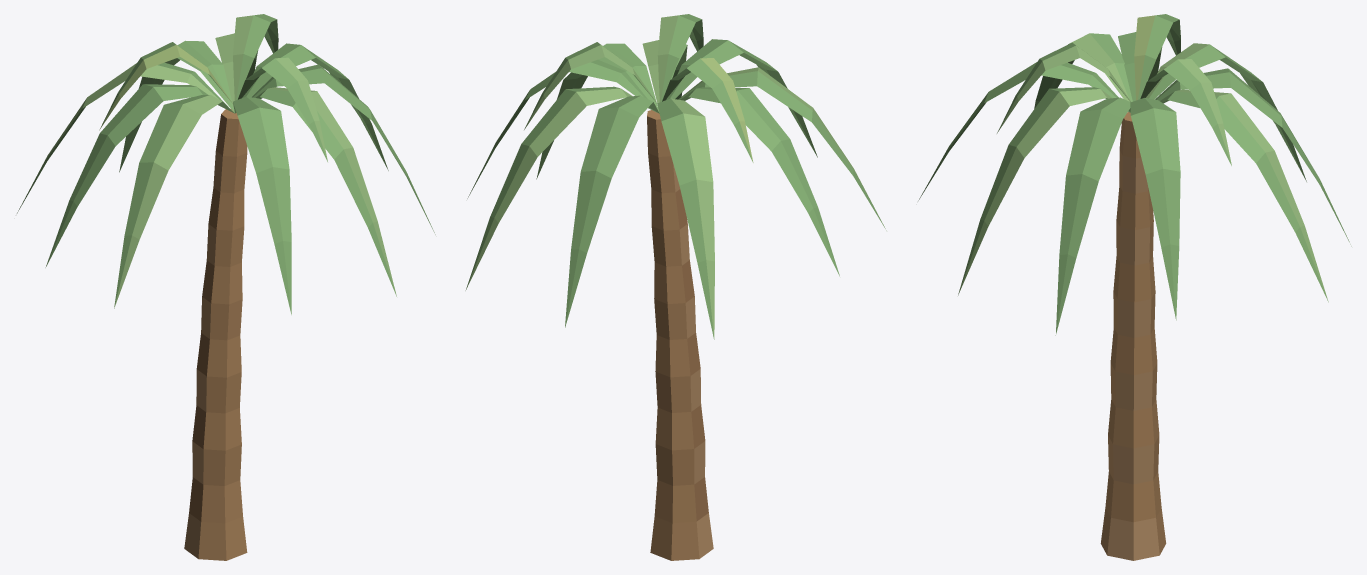
The model's file is tree-palm-tall.glb.
3 renders of one model, left to right at view 1: azimuth 30°, elevation 25°; view 2: azimuth 150°, elevation 25°; view 3: azimuth 270°, elevation 25°, orthographic. The views are drawn at different scales.
Visible parts, largest first — view 1: tree-palm-tall; view 2: tree-palm-tall; view 3: tree-palm-tall.
Boxes of the visible parts, <box> form: tree-palm-tall: <box>17,14,435,560</box>; tree-palm-tall: <box>465,14,886,560</box>; tree-palm-tall: <box>918,14,1351,560</box>.
Size of the model in its own units: 2.93 by 3.93 by 3.01.
